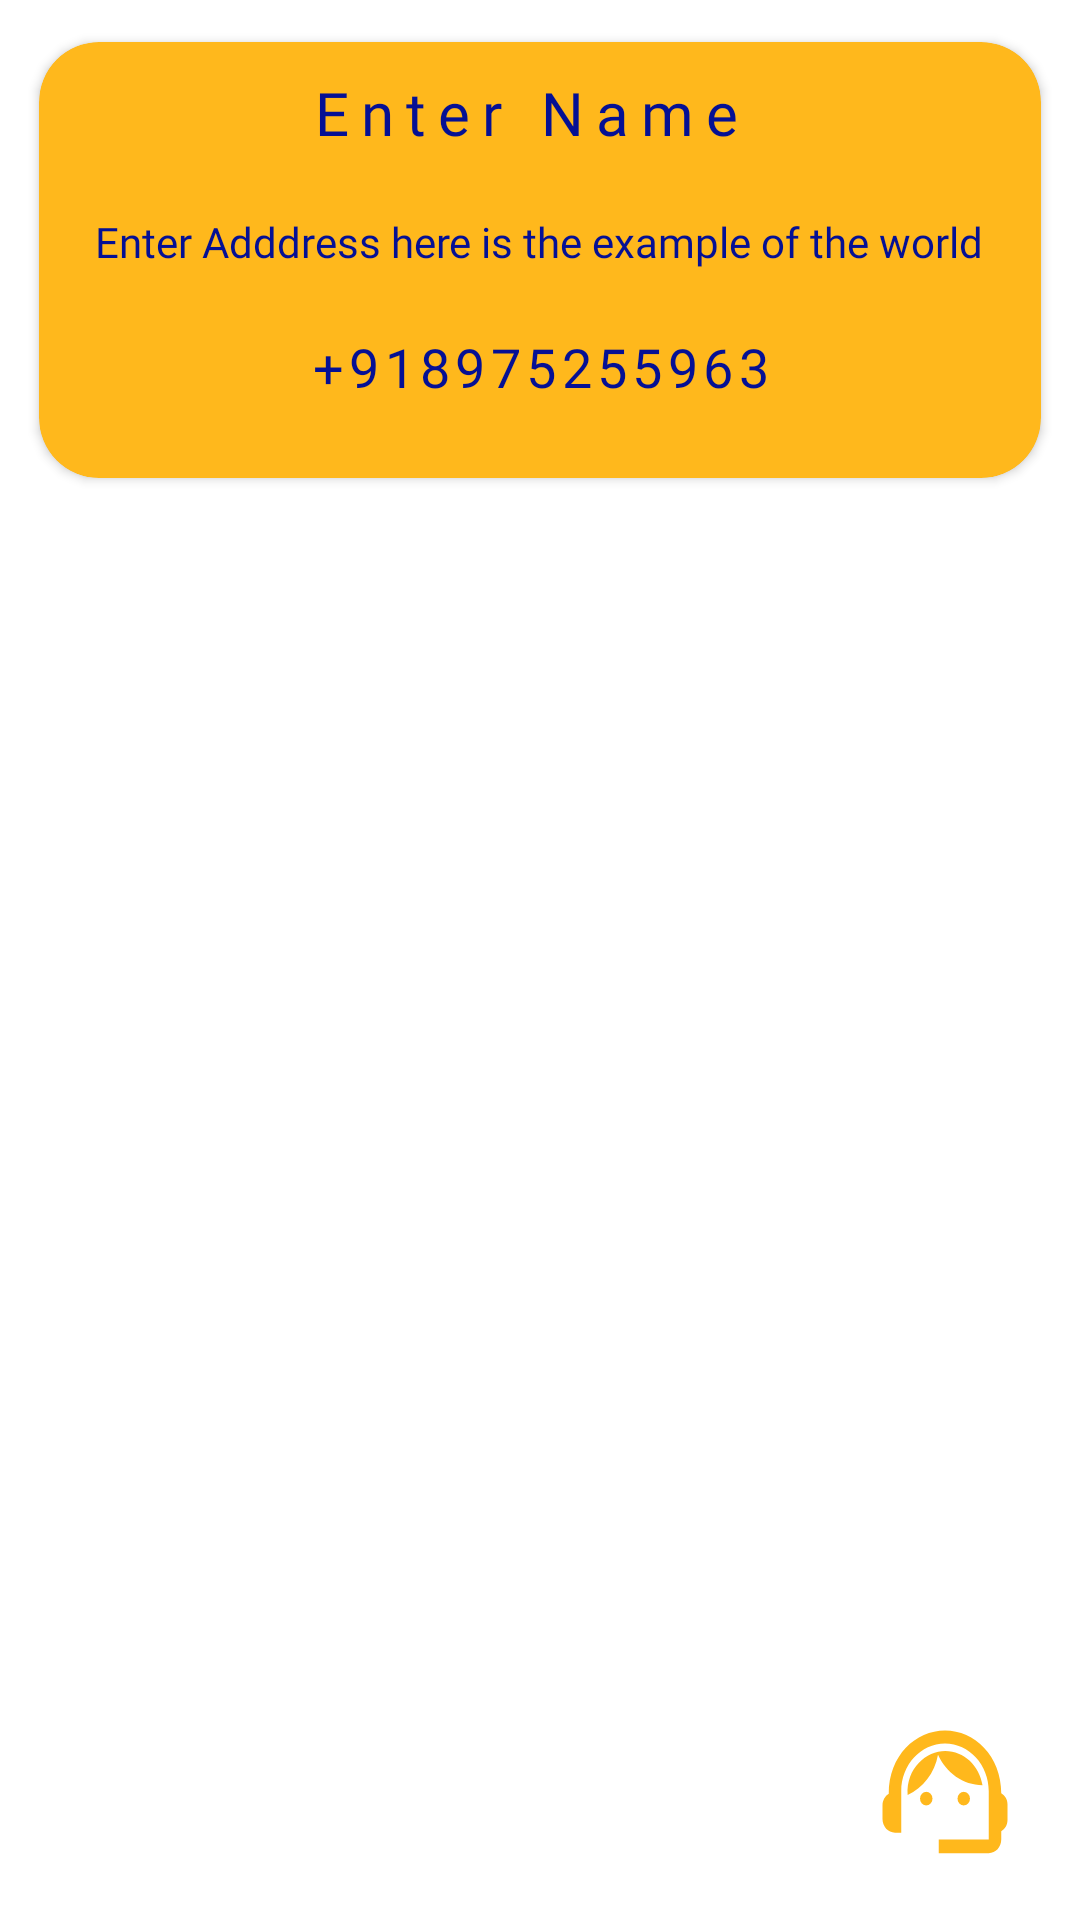

Icons on this 1080 x 1920 Android screen, each with its box as (x1, y1, x2, y2):
support agent: (882, 1730, 1008, 1854)
